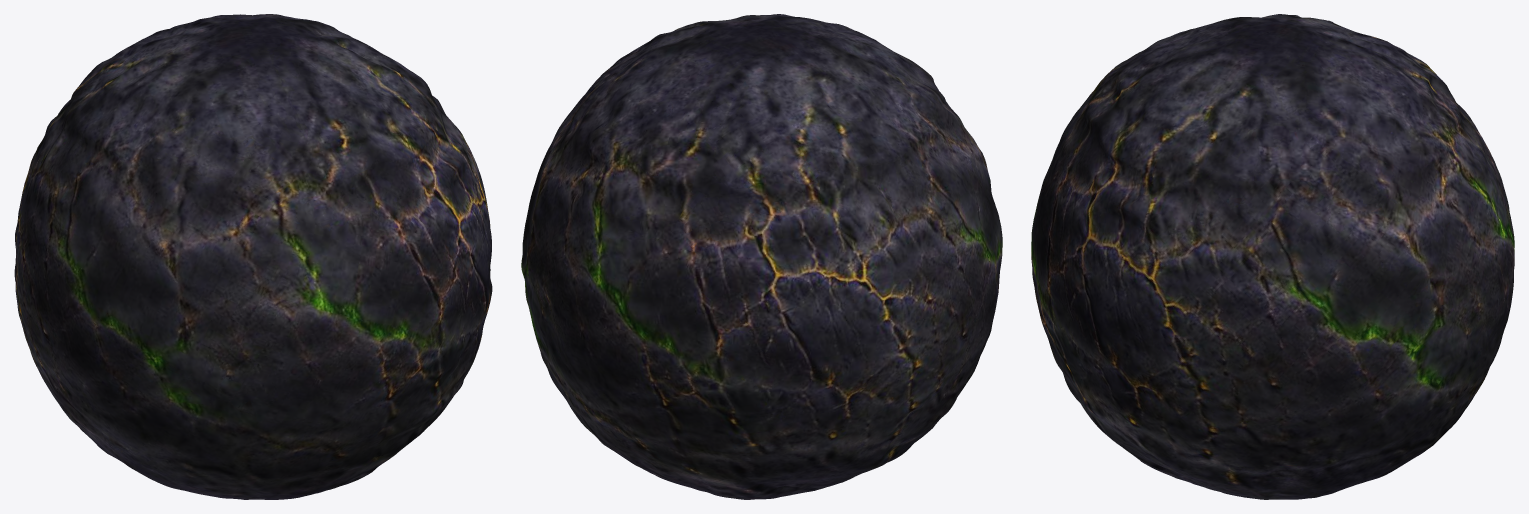
File: fear.glb
3 renders of one model, left to right at view 1: azimuth 30°, elevation 25°; view 2: azimuth 150°, elevation 25°; view 3: azimuth 270°, elevation 25°, orthographic.
Parts seen in each view (by area): view 1: geometry_0; view 2: geometry_0; view 3: geometry_0.
Part boxes in pixels (<box>): geometry_0: <box>14,14,492,499</box>; geometry_0: <box>521,14,1002,499</box>; geometry_0: <box>1031,14,1514,499</box>.
Bounding box in the file's own units: 0.5796 × 0.5899 × 0.5827.
1 material, 1 textured.
